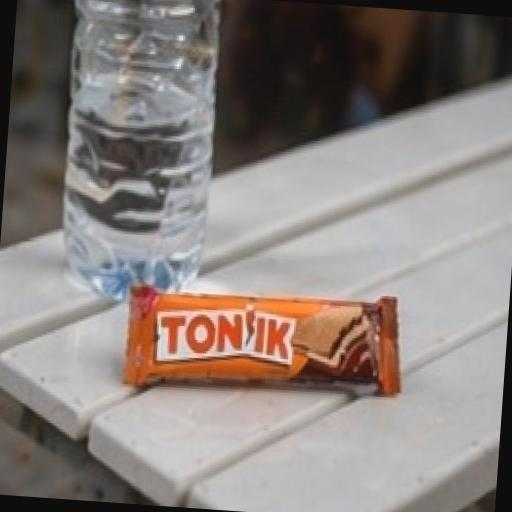tonik: (40, 65, 448, 455)
